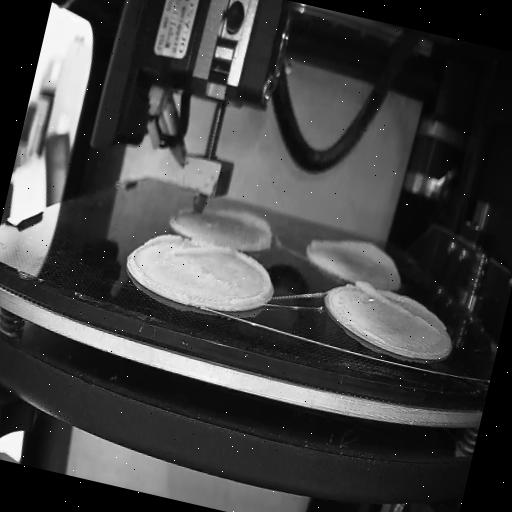over_extrusion: (346, 277, 448, 338), (308, 226, 402, 274), (221, 249, 279, 311), (144, 229, 230, 269), (210, 203, 278, 252)
